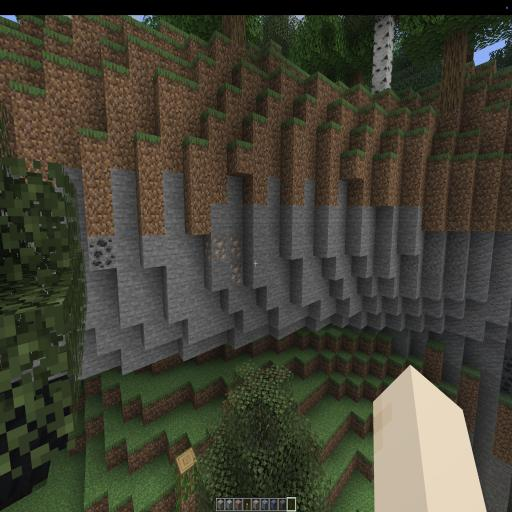coal ore: (87, 233, 117, 277)
iron ore: (201, 228, 246, 296)
